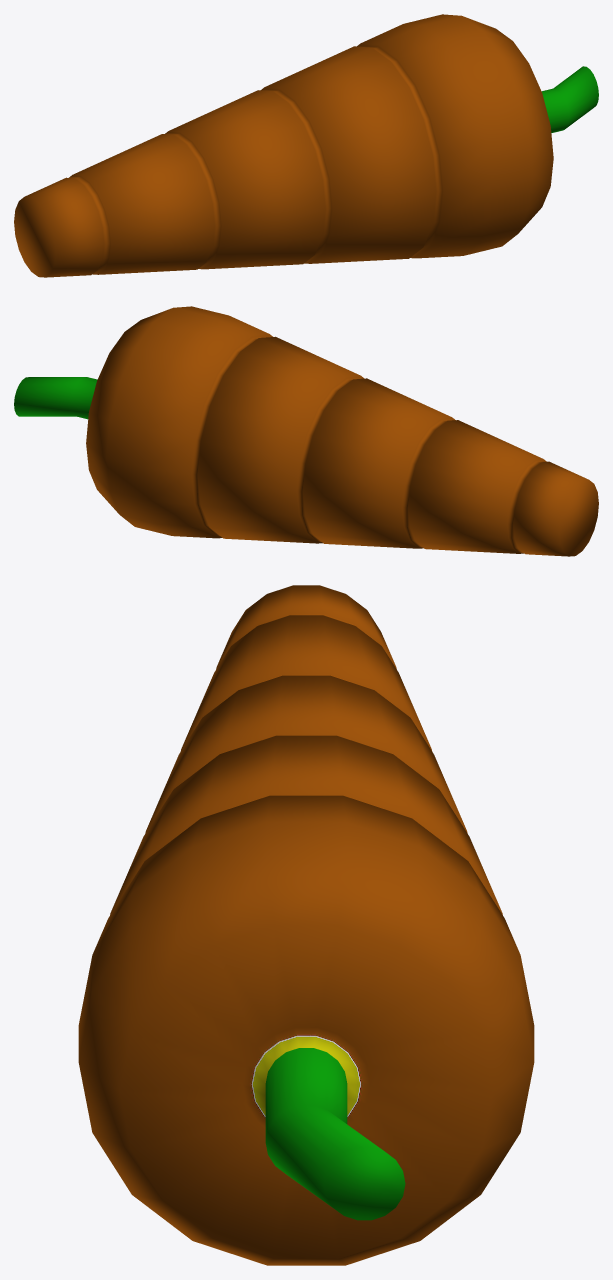
File: Carrot.fbx
3 views of the same model, one above another, from view 1: azimuth 30°, elevation 25°; view 2: azimuth 150°, elevation 25°; view 3: azimuth 270°, elevation 25° (orthographic). The views are drawn at different scales.
Visible parts, largest first — view 1: Carrot; view 2: Carrot; view 3: Carrot.
Part boxes in pixels (left/top/right/bottom): Carrot: left=14, top=14, right=598, bottom=277; Carrot: left=14, top=306, right=598, bottom=556; Carrot: left=78, top=585, right=534, bottom=1265.
Bounding box in the file's own units: 57.47 × 20.67 × 20.99.
